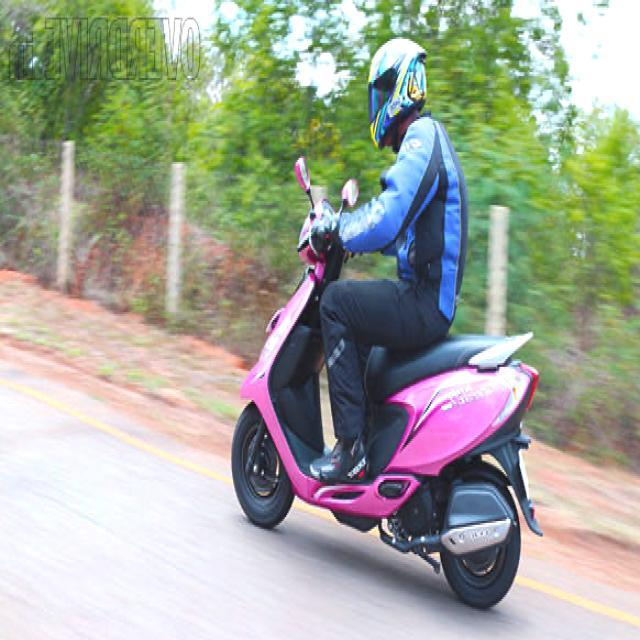Helmet: (361, 28, 432, 152)
